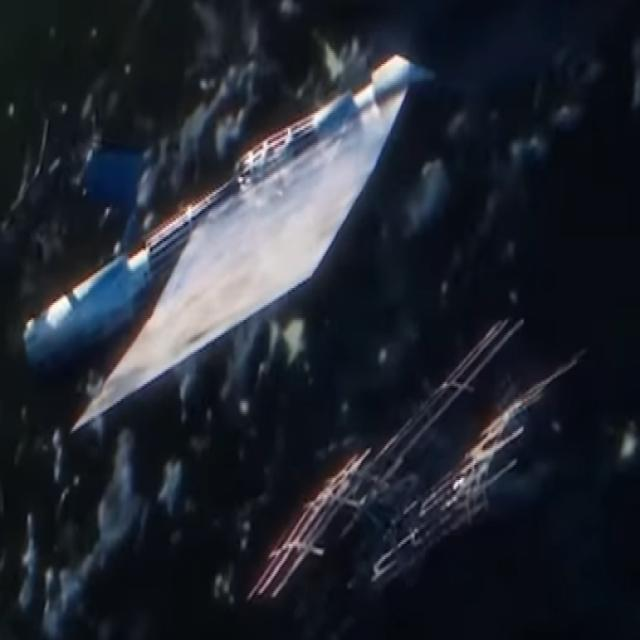large_debris: (14, 29, 440, 436)
